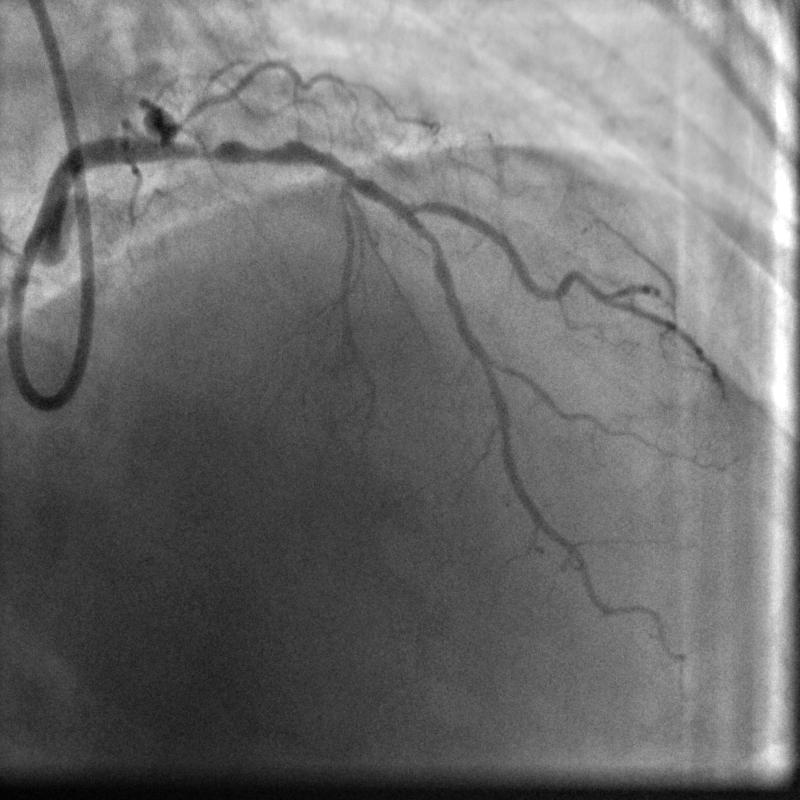Stenosis: (178, 133, 302, 166)
